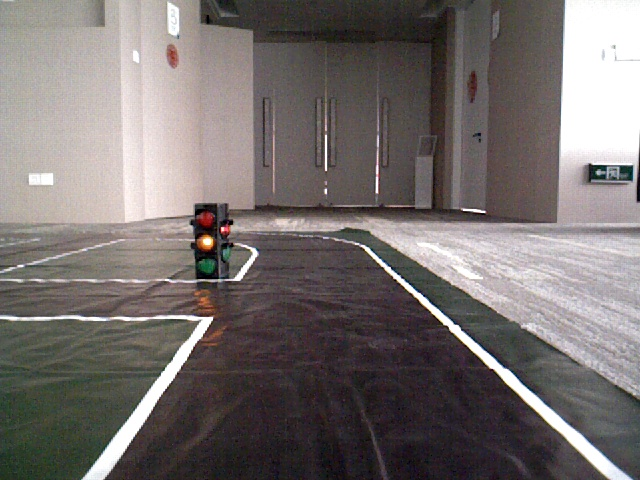yellow: (193, 205, 216, 274)
